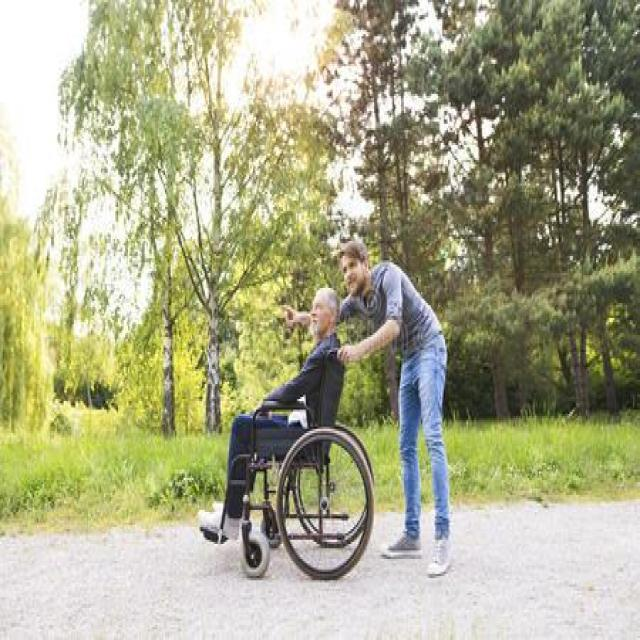wheelchairs: (193, 343, 377, 584)
